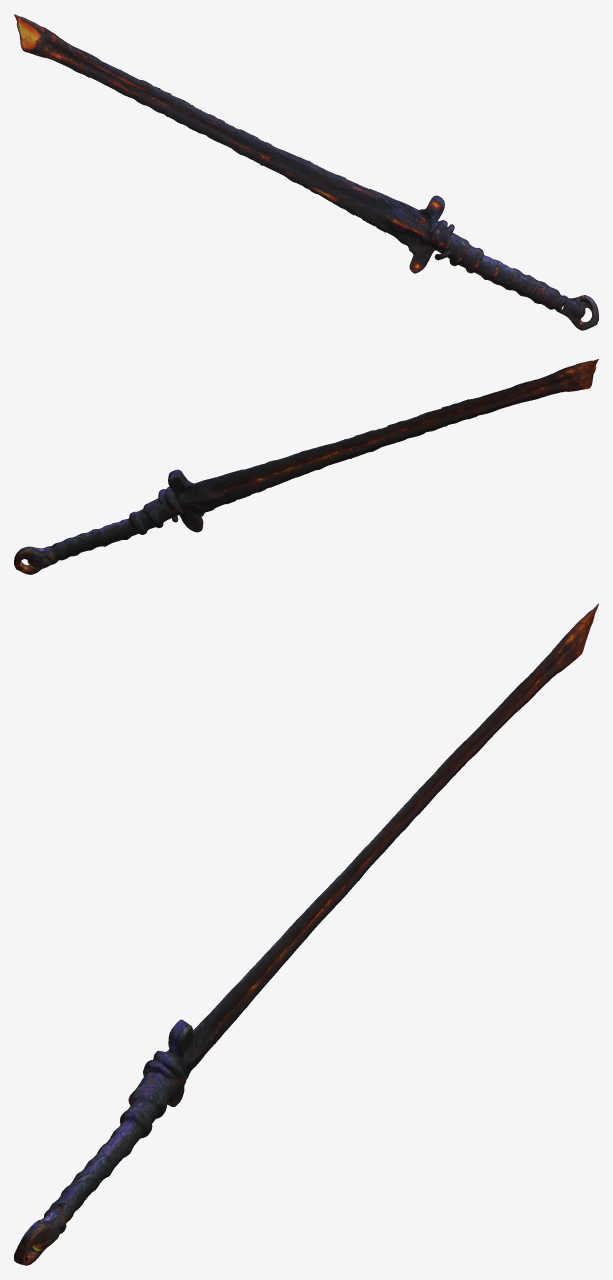
File: YearningDevilWeapon_FBX.fbx
3 renders of one model, top to bottom at view 1: azimuth 30°, elevation 25°; view 2: azimuth 210°, elevation 25°; view 3: azimuth 270°, elevation 25°, orthographic. The views are drawn at different scales.
Visible parts, largest first — view 1: Mesh1_Mesh1.035; view 2: Mesh1_Mesh1.035; view 3: Mesh1_Mesh1.035.
Part boxes in pixels (left/top/right/bottom): Mesh1_Mesh1.035: left=14, top=14, right=598, bottom=330; Mesh1_Mesh1.035: left=14, top=359, right=598, bottom=574; Mesh1_Mesh1.035: left=14, top=603, right=598, bottom=1265.
Size of the model in its own units: 199 by 130 by 176.
Materials: 1 (1 with a texture image).
